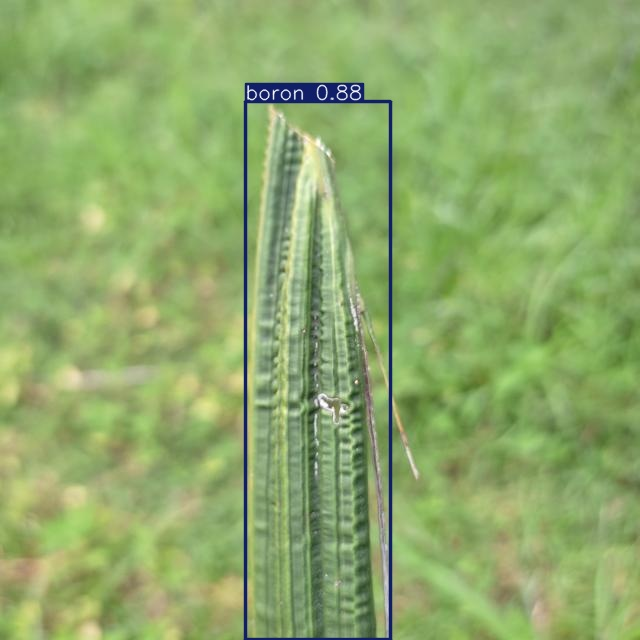nitrogen: (245, 102, 391, 639)
